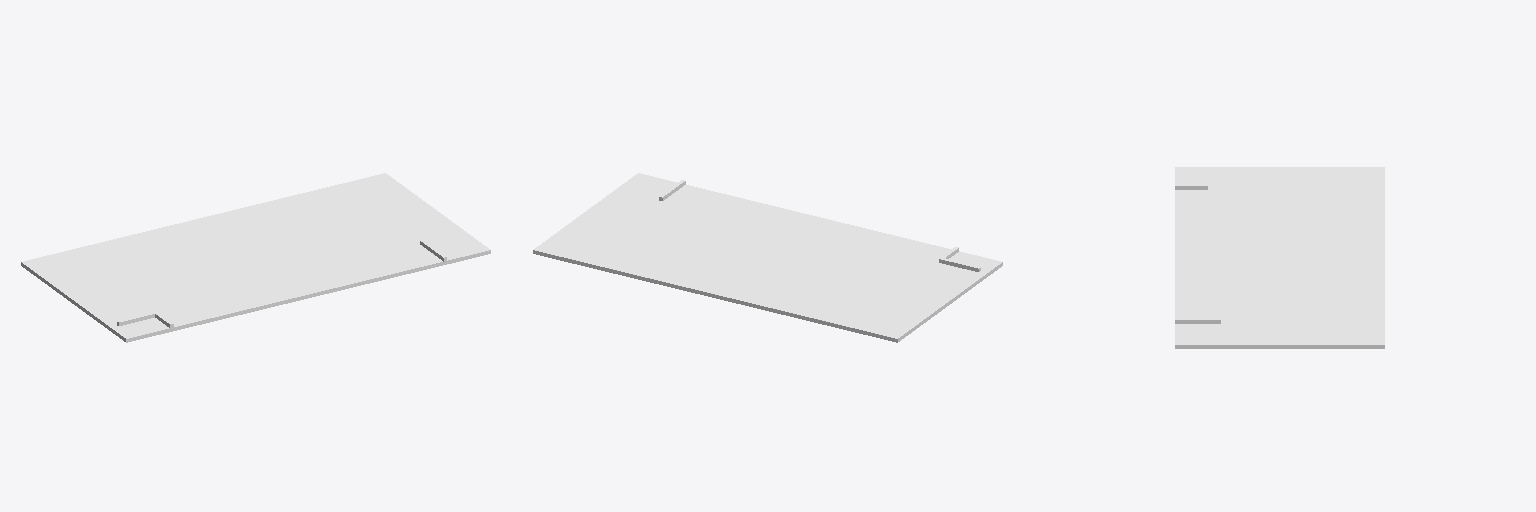
File: neon_plane.obj
3 renders of one model, left to right at view 1: azimuth 30°, elevation 25°; view 2: azimuth 150°, elevation 25°; view 3: azimuth 270°, elevation 25°, orthographic.
Size of the model in its own units: 100 by 2 by 50.